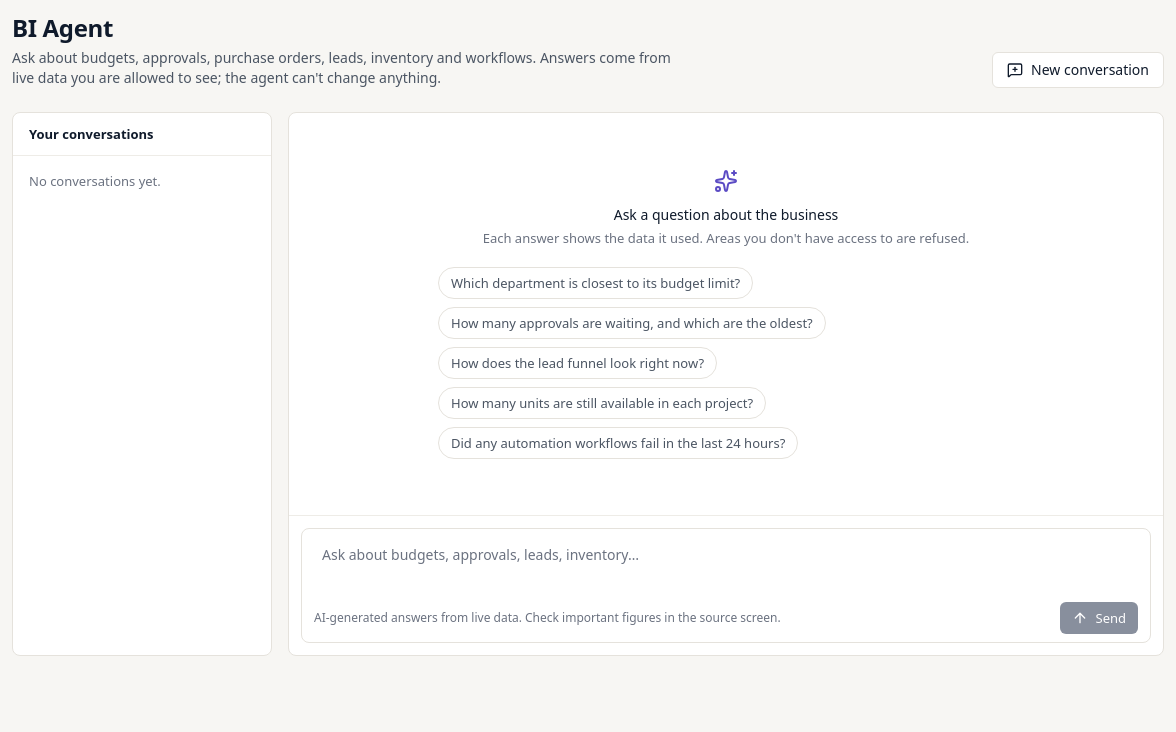
Scenario: BI agent page › streams an answer with the tools it used
Click the button "Which department is closest to its budget limit?": point(596, 283) [438,267,753,299]
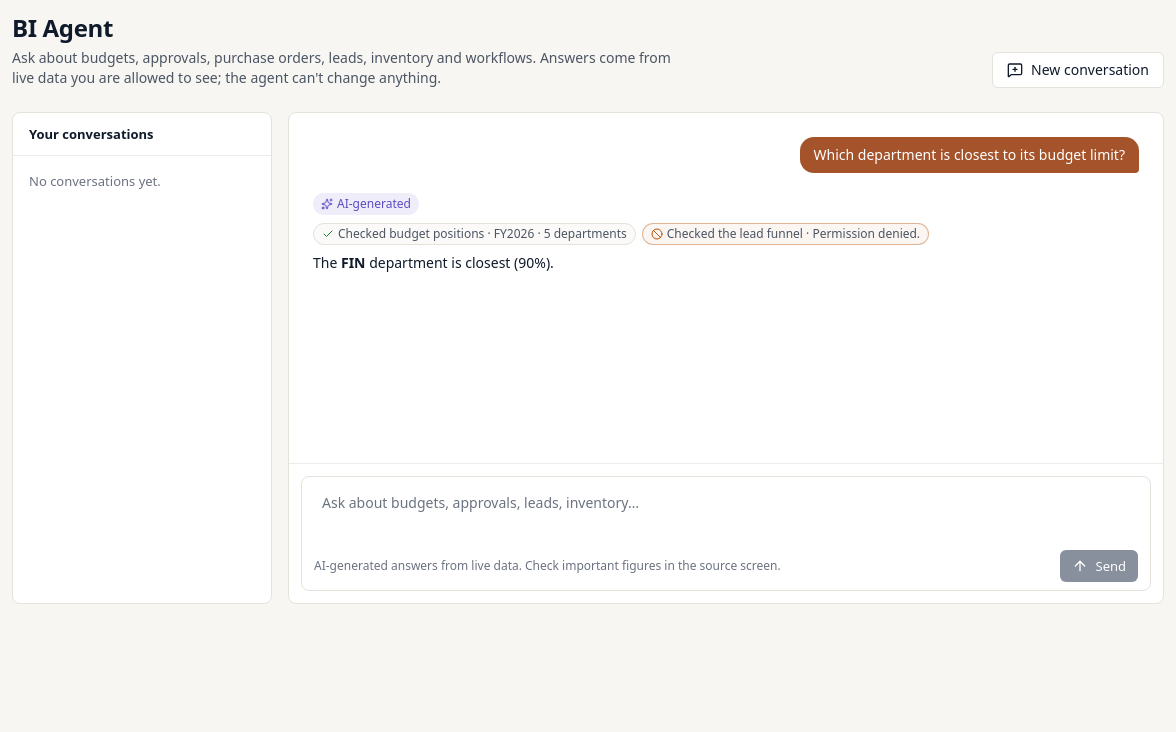
Expected: the list named "Data used" shows "Checked budget positions · FY2026 · 5 departments", [313,223,929,245]
Expected: the list named "Data used" shows "(denied)", [803,225,920,242]
Expected: the text "AI-generated" is shown, [313,193,419,215]
